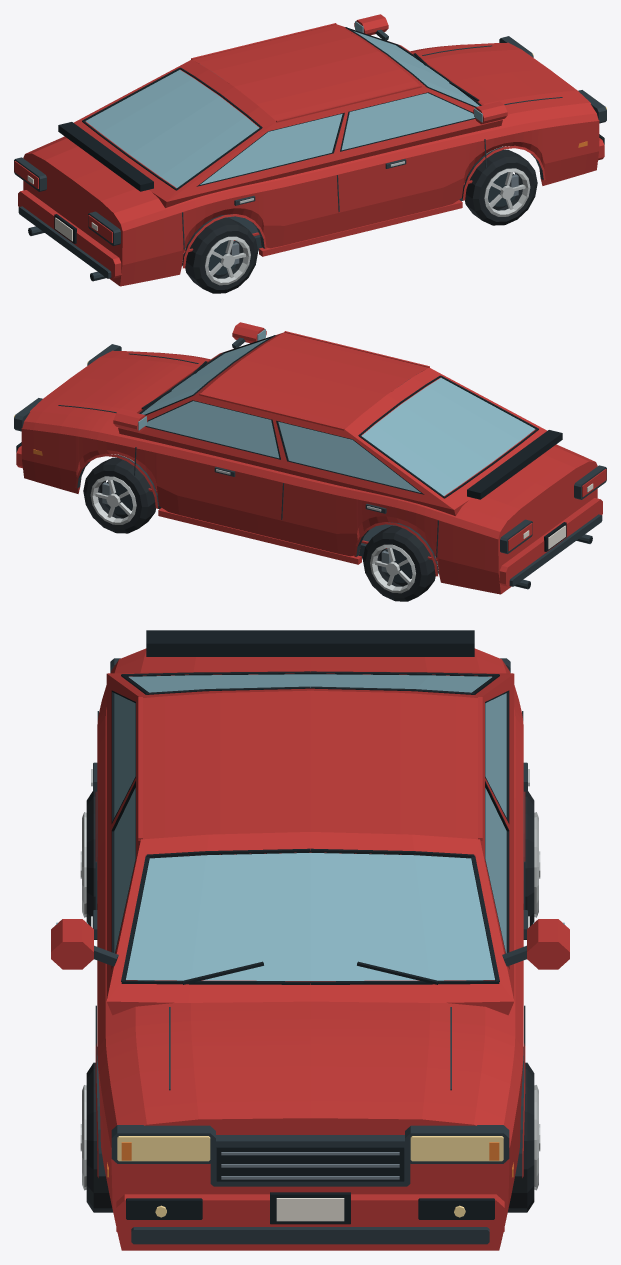
File: b03_five_door_fastback.glb
3 views of the same model, one above another, from view 1: azimuth 30°, elevation 25°; view 2: azimuth 150°, elevation 25°; view 3: azimuth 270°, elevation 25° (orthographic). The views are drawn at different scales.
Parts seen in each view (by area): view 1: b03_five_door_fastback; view 2: b03_five_door_fastback; view 3: b03_five_door_fastback.
Boxes of the visible parts, x1,y1,x2,y2 form: b03_five_door_fastback: (14, 14, 606, 293); b03_five_door_fastback: (14, 322, 606, 601); b03_five_door_fastback: (51, 630, 569, 1250).
Size of the model in its own units: 5.11 by 1.48 by 2.3.
